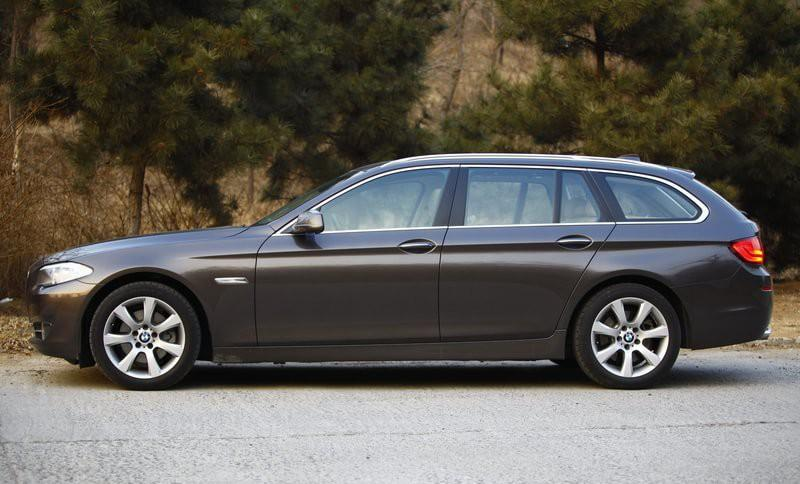Wagon: (25, 151, 773, 392)
